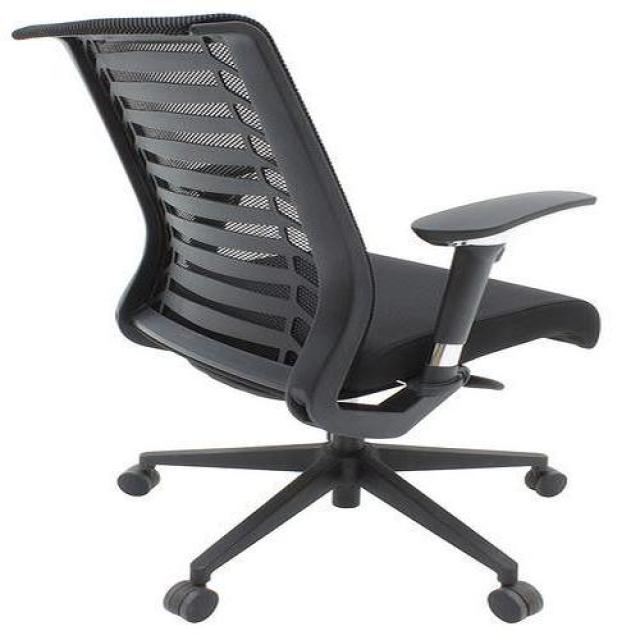swivelchair: (12, 14, 603, 626)
